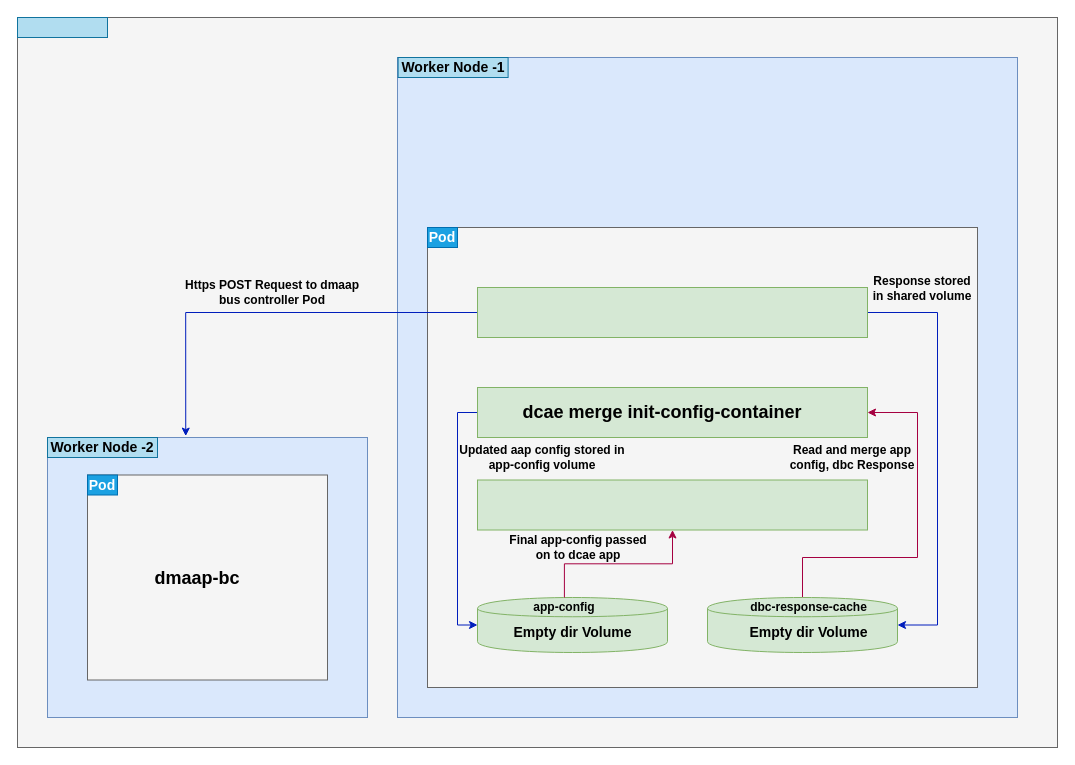
Image size: 1075x765. Some labels were removed from this diagram. The centre of each missing label's shape, as x and y in pixels:
dcae application -container: [672,504]
dmaap provisioning init-container: [672,312]
K8s Cluster: [62,27]
